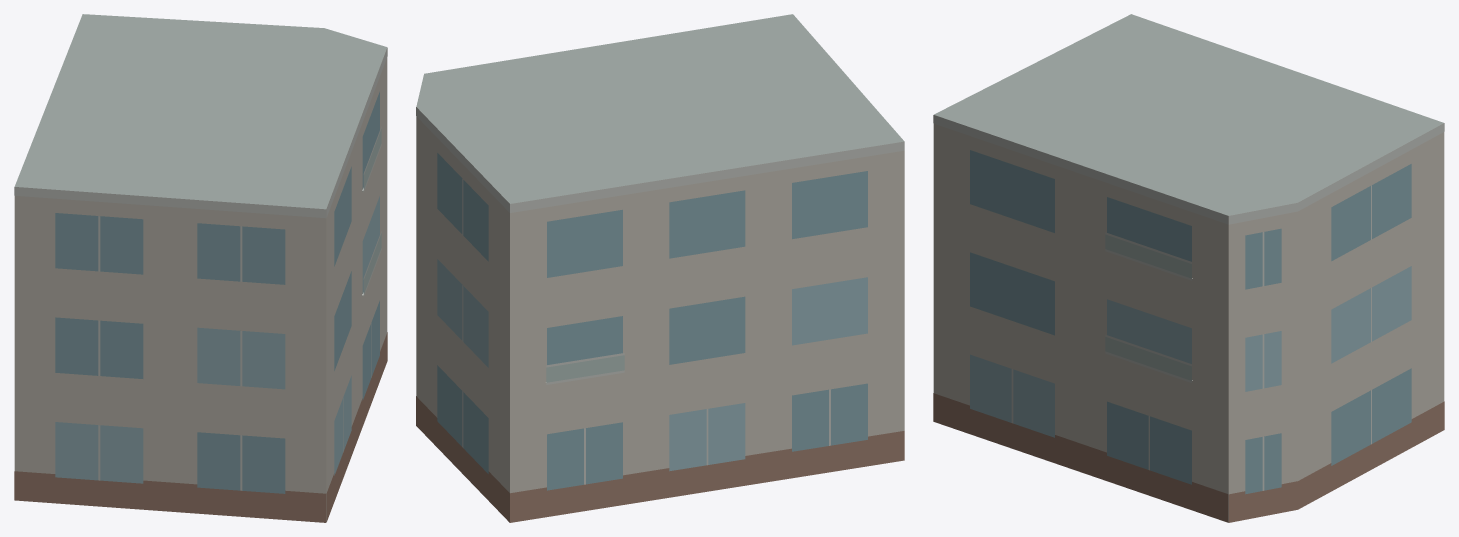
The model's file is survey-upis-32807515.glb.
3 renders of one model, left to right at view 1: azimuth 30°, elevation 25°; view 2: azimuth 150°, elevation 25°; view 3: azimuth 270°, elevation 25°, orthographic. The views are drawn at different scales.
Parts seen in each view (by area): view 1: survey-upis-32807515.tmp; view 2: survey-upis-32807515.tmp; view 3: survey-upis-32807515.tmp.
Boxes of the visible parts, x1,y1,x2,y2 form: survey-upis-32807515.tmp: [14, 14, 387, 522]; survey-upis-32807515.tmp: [416, 14, 904, 522]; survey-upis-32807515.tmp: [933, 14, 1444, 522].
Bounding box in the file's own units: 12.07 × 8.55 × 12.91.
